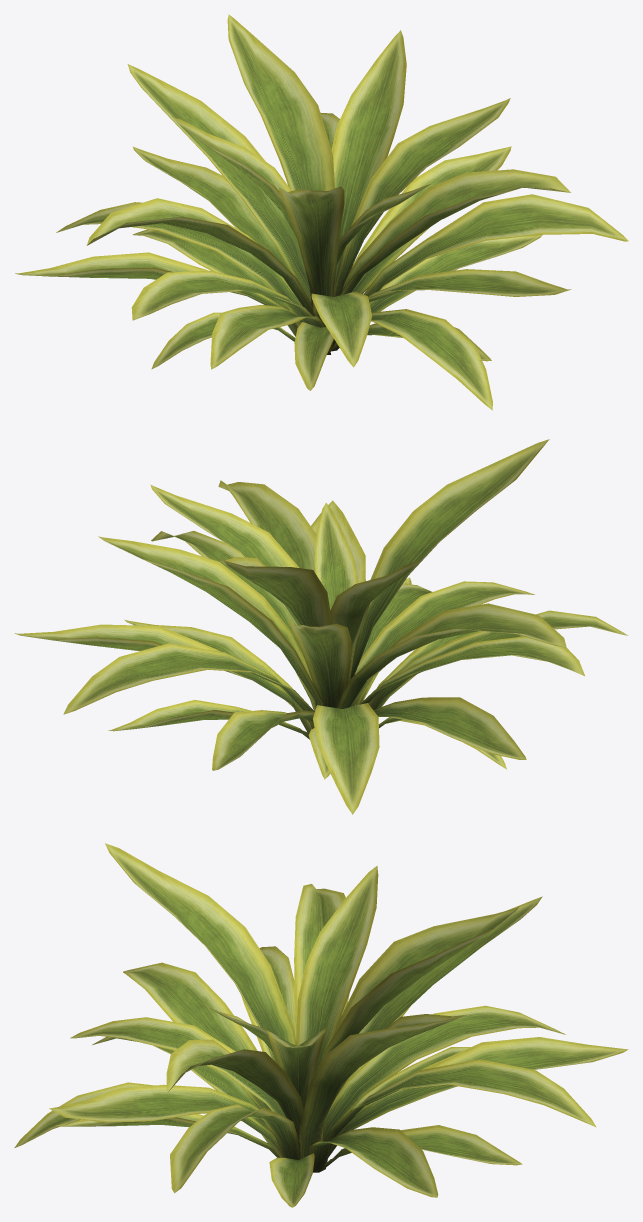
File: D_Plant_001.fbx
The picture shows the model from 3 angles, top to bottom: view 1: azimuth 30°, elevation 25°; view 2: azimuth 150°, elevation 25°; view 3: azimuth 270°, elevation 25°; orthographic projection. The views are drawn at different scales.
Parts seen in each view (by area): view 1: D_Plant_001; view 2: D_Plant_001; view 3: D_Plant_001.
Boxes of the visible parts, x1,y1,x2,y2 form: D_Plant_001: (15,14,628,410); D_Plant_001: (14,439,628,814); D_Plant_001: (14,843,628,1207).
Bounding box in the file's own units: 0.4359 × 0.2113 × 0.4463.
Materials: 1 (1 with a texture image).
